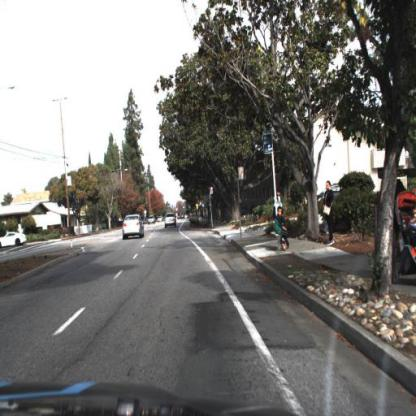car: (1, 223, 29, 251), (122, 213, 147, 240), (165, 211, 179, 229)
pedestrian: (271, 206, 297, 257), (323, 179, 336, 249), (274, 205, 288, 256), (273, 185, 285, 222), (272, 186, 285, 211)
